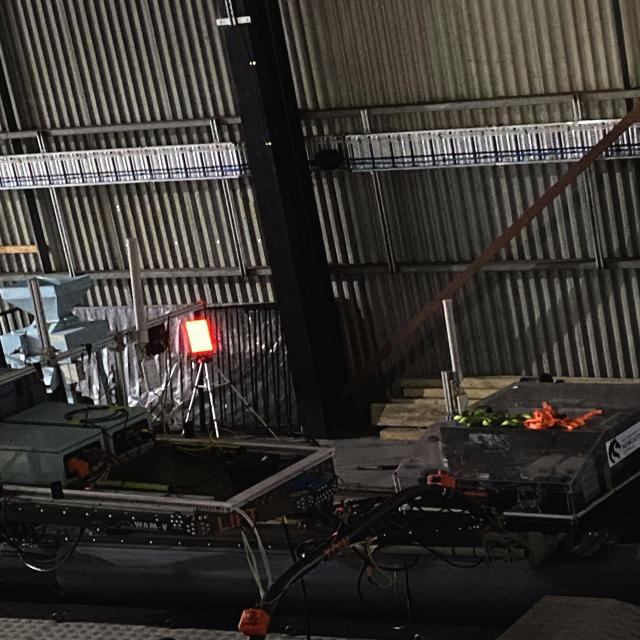matrix: (173, 314, 226, 362)
